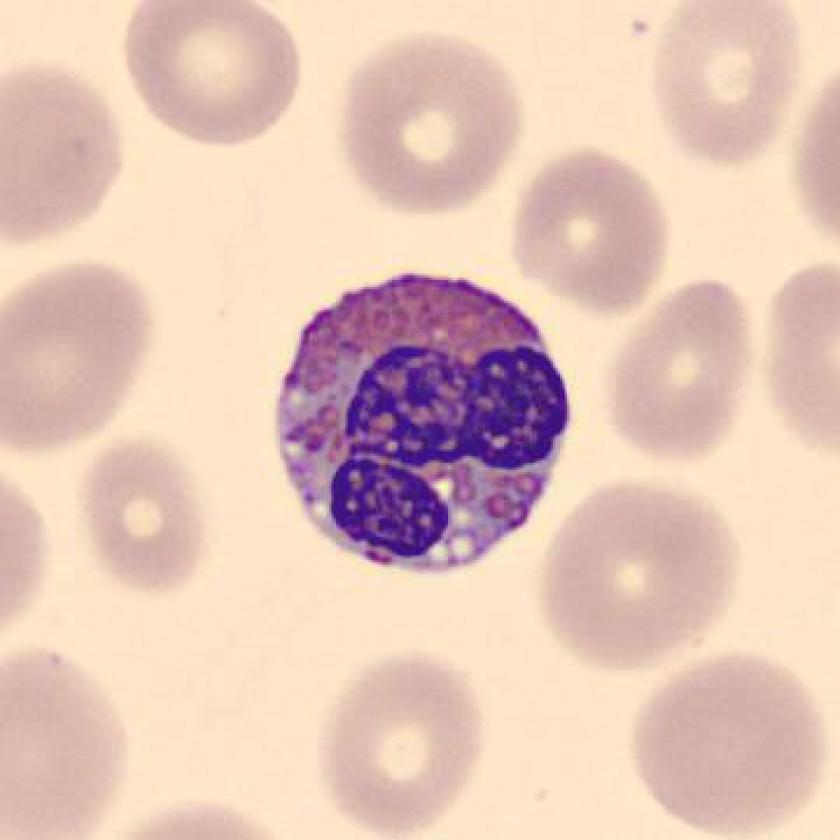eosinophil: (263, 263, 585, 584)
